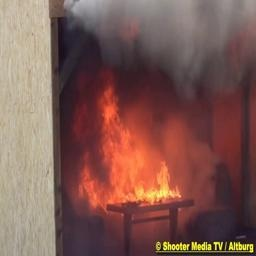fire: (57, 65, 224, 231)
